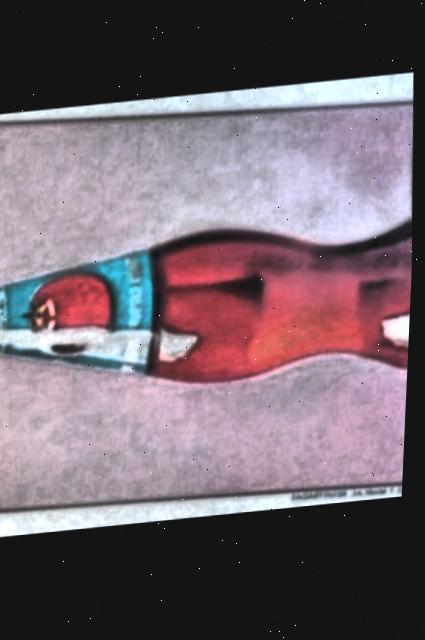La Botella: (0, 109, 414, 513)
